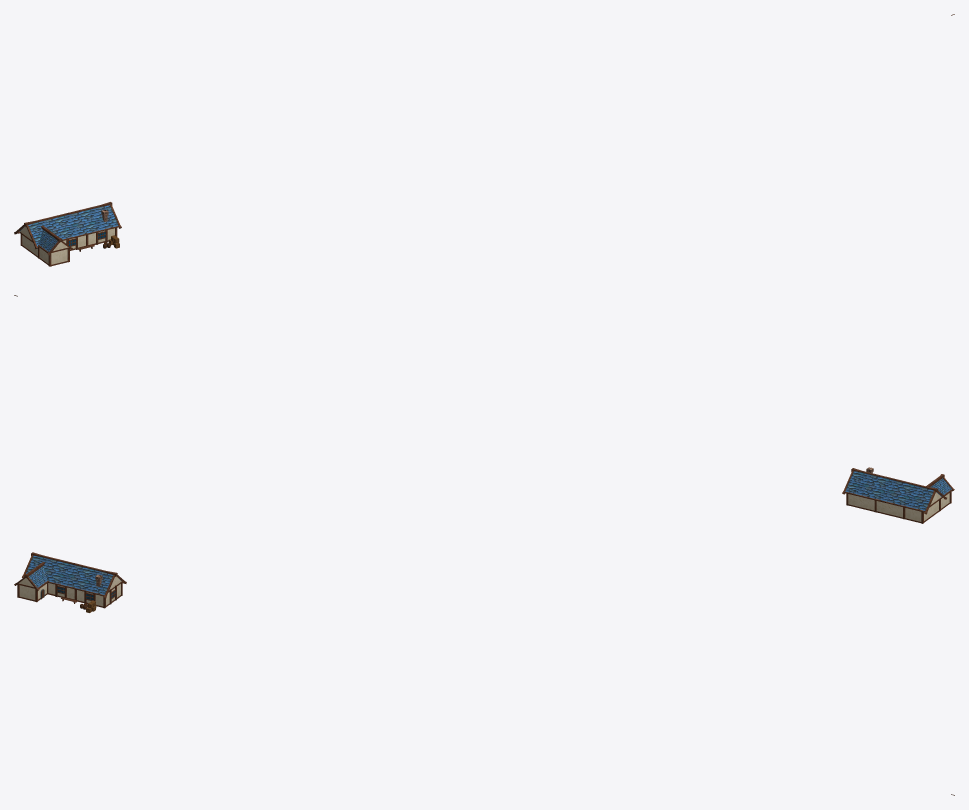
File: casatales.fbx
3 views of the same model, one above another, from view 1: azimuth 30°, elevation 25°; view 2: azimuth 150°, elevation 25°; view 3: azimuth 330°, elevation 25° (orthographic). The views are drawn at different scales.
Parts seen in each view (by area): view 1: Cube.1068; view 2: Cube.1068; view 3: Cube.1068.
Part boxes in pixels (x1=…): Cube.1068: x1=14, y1=202, x2=121, y2=266; Cube.1068: x1=842, y1=467, x2=954, y2=523; Cube.1068: x1=14, y1=552, x2=126, y2=608.
Bounding box in the file's own units: 19555 × 602 × 1160.
Materials: 100 (100 with a texture image).
